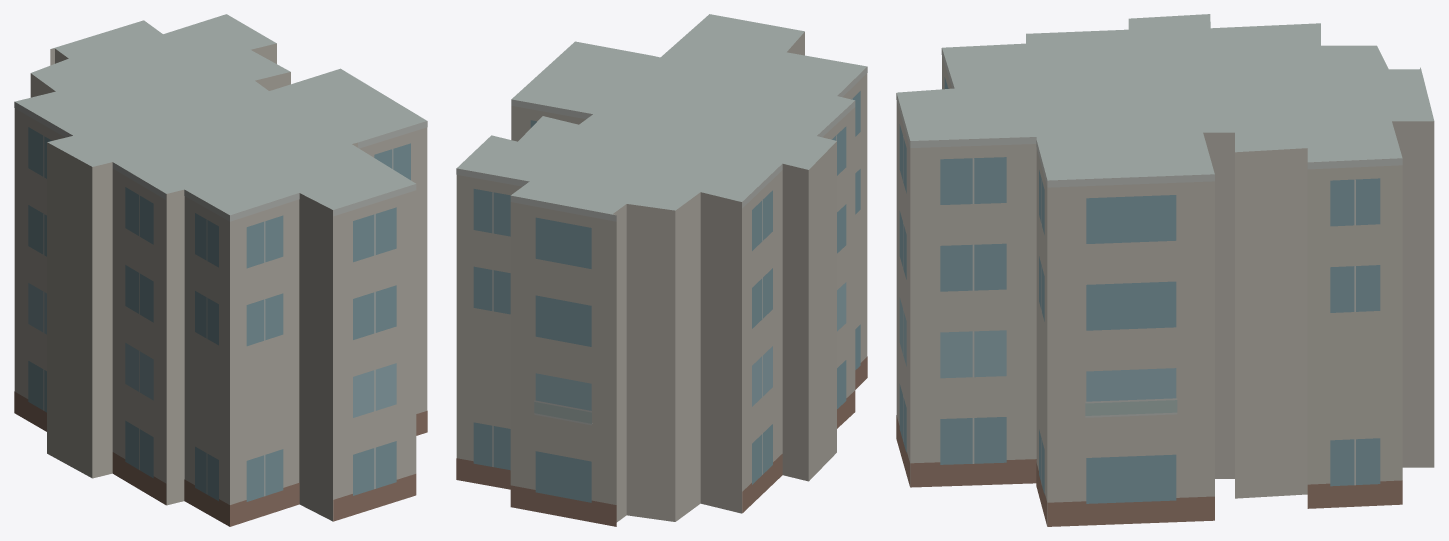
File: survey-upis-32754893.glb
3 renders of one model, left to right at view 1: azimuth 30°, elevation 25°; view 2: azimuth 150°, elevation 25°; view 3: azimuth 270°, elevation 25°, orthographic. The views are drawn at different scales.
Visible parts, largest first — view 1: survey-upis-32754893.tmp; view 2: survey-upis-32754893.tmp; view 3: survey-upis-32754893.tmp.
Boxes of the visible parts, x1=… form: survey-upis-32754893.tmp: x1=14, y1=14, x2=427, y2=526; survey-upis-32754893.tmp: x1=456, y1=14, x2=867, y2=526; survey-upis-32754893.tmp: x1=896, y1=14, x2=1434, y2=526.
Size of the model in its own units: 12.28 by 11.9 by 16.76.
